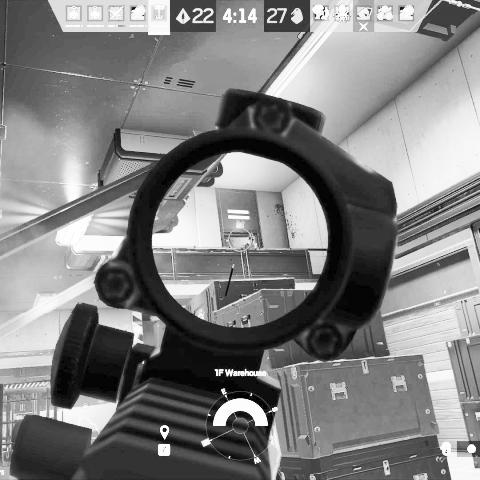Character: (243, 233, 256, 249)
Friend_label: (74, 402, 97, 418)
Head: (248, 234, 255, 245)
